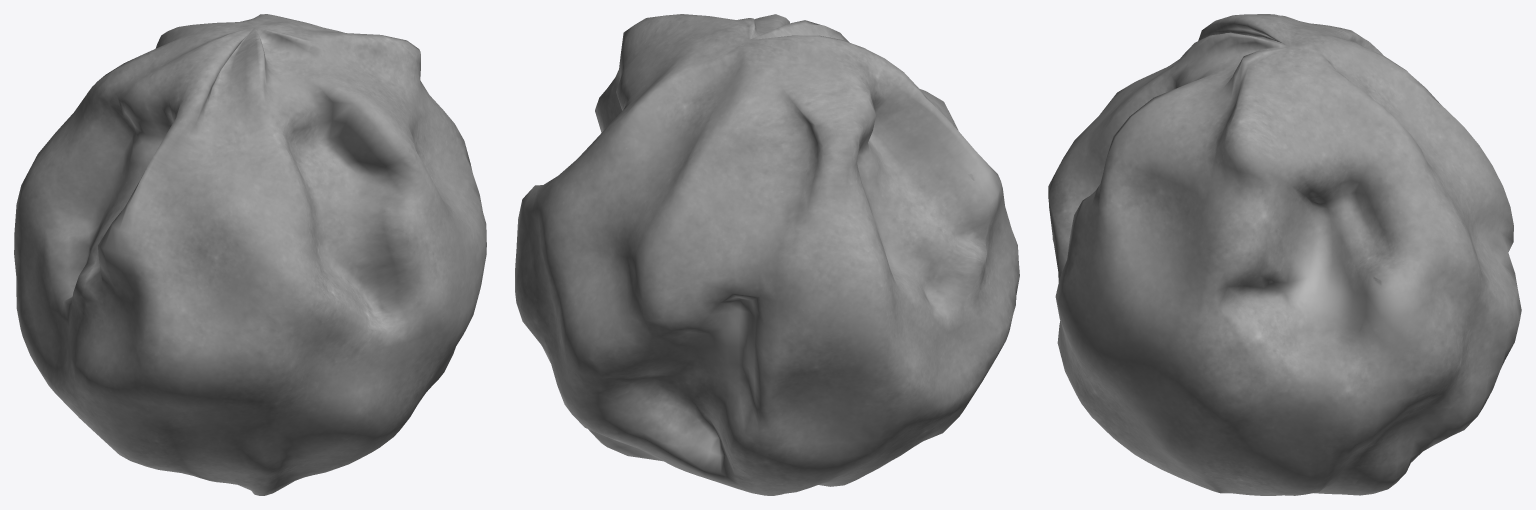
File: Rock.obj
3 renders of one model, left to right at view 1: azimuth 30°, elevation 25°; view 2: azimuth 150°, elevation 25°; view 3: azimuth 270°, elevation 25°, orthographic.
Visible parts, largest first — view 1: Sphere001; view 2: Sphere001; view 3: Sphere001.
Part boxes in pixels (x1,y1,x2,y2): Sphere001: (14, 14, 486, 495); Sphere001: (515, 14, 1019, 495); Sphere001: (1048, 14, 1521, 495).
Bounding box in the file's own units: 19.71 × 20.2 × 19.63.
1 material, 1 textured.
